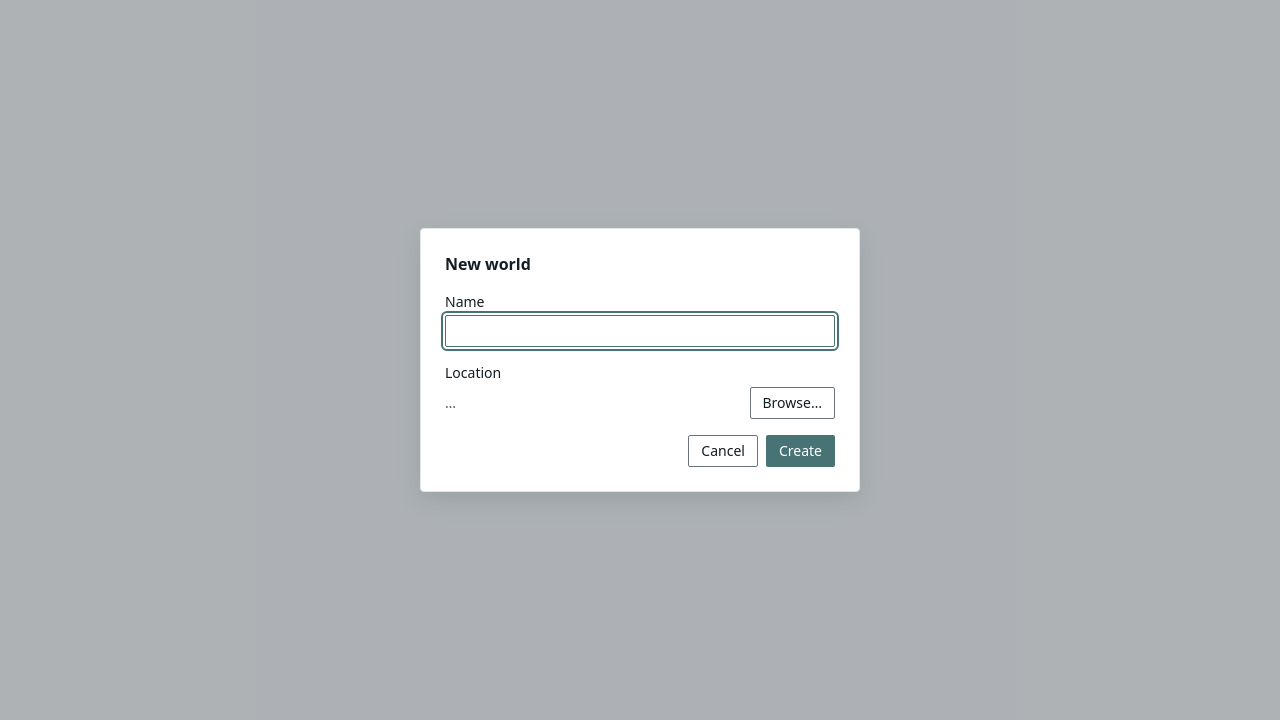
Test: NewWorldDialog › reports Create with the name, shows name errors under the input and others below, and stays open
The width and height of the screenshot is (1280, 720).
In the field labelled "Name": (640, 331) [445, 315, 835, 347], type "Saltmere"
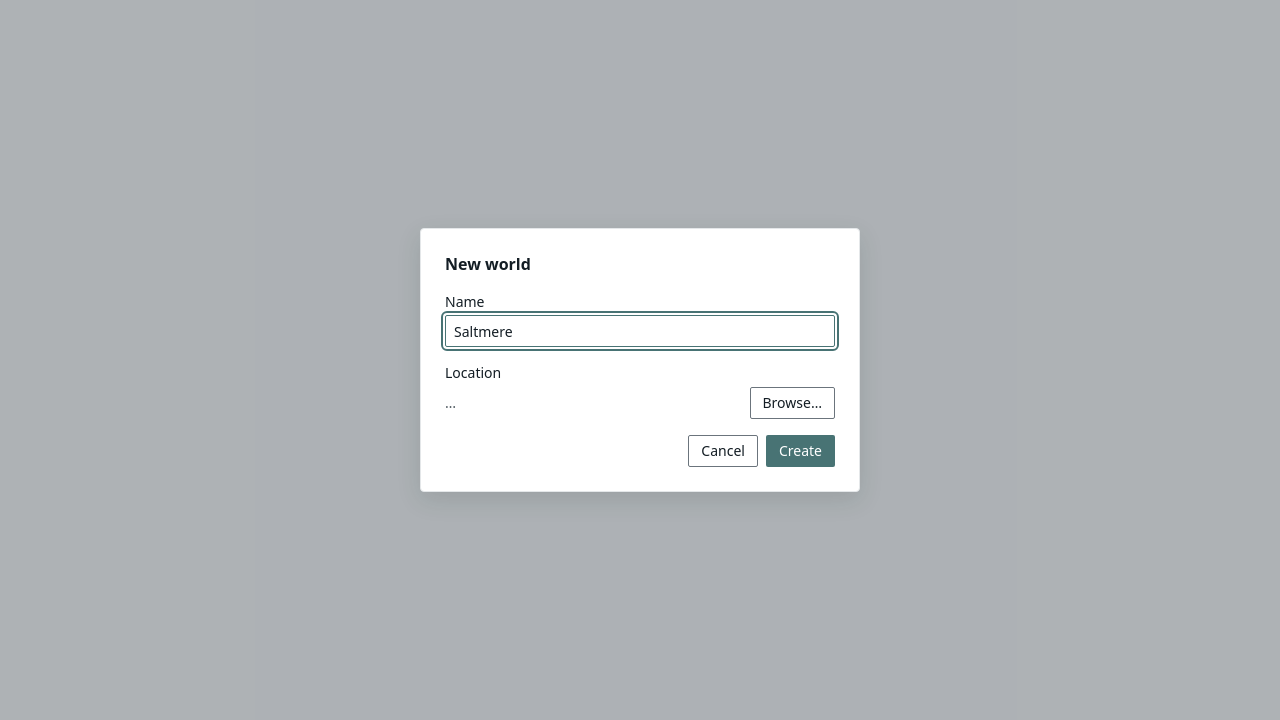
Click the button "Create": (800, 451) [766, 435, 835, 467]
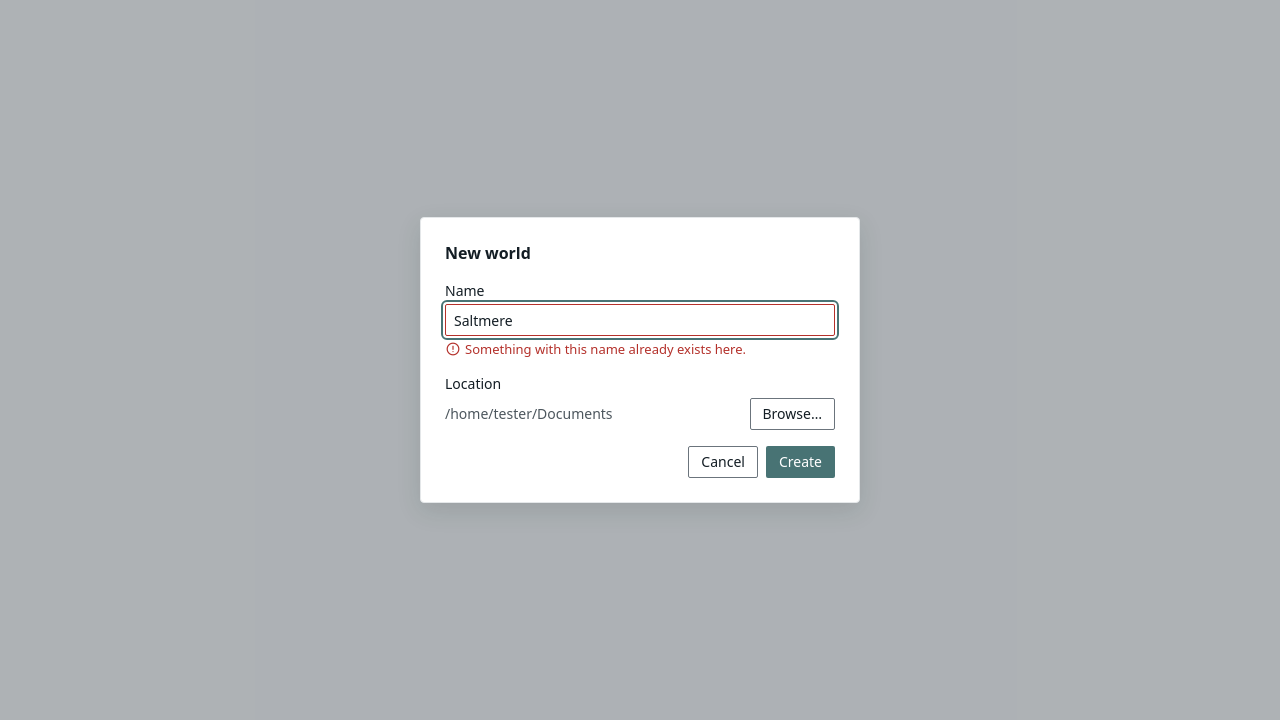
Submit the form from the field labelled "Name", box [445, 304, 835, 336]
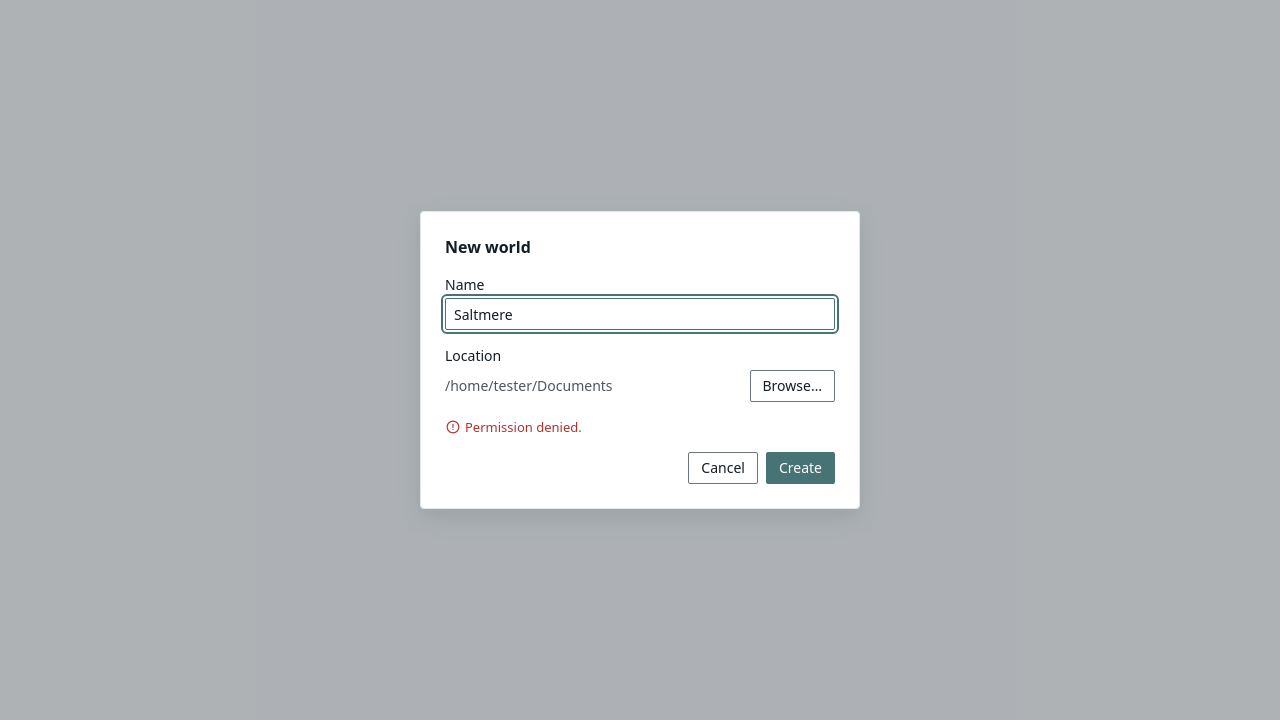
expect the dialog "New world" is shown: met, box [420, 211, 860, 509]
expect the message reads "Permission denied.": met, box [465, 418, 582, 436]
